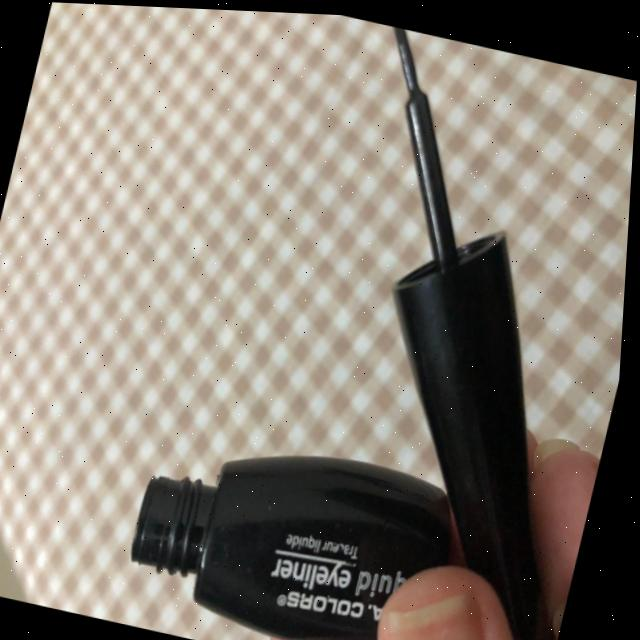eye liner: (272, 14, 640, 514)
